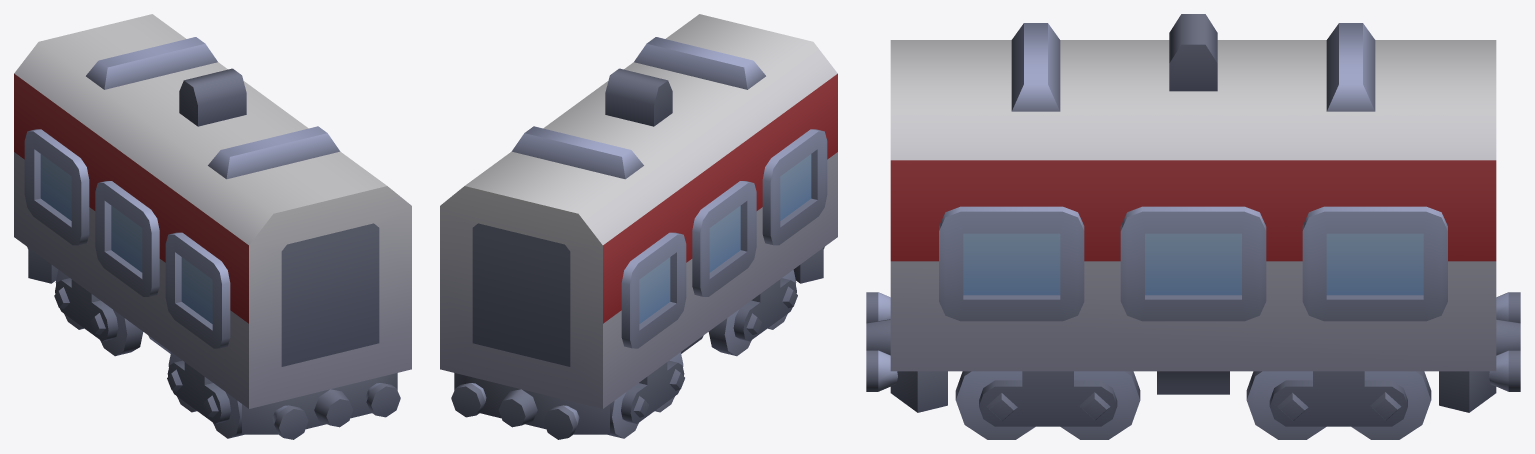
File: train-electric-city-c.glb
The picture shows the model from 3 angles, left to right: view 1: azimuth 30°, elevation 25°; view 2: azimuth 150°, elevation 25°; view 3: azimuth 270°, elevation 25°; orthographic projection. The views are drawn at different scales.
Parts seen in each view (by area): view 1: train-electric-city-c, wheels-back, wheels-front; view 2: train-electric-city-c, wheels-front, wheels-back; view 3: train-electric-city-c, wheels-back, wheels-front.
Part boxes in pixels (x1=…): train-electric-city-c: x1=14, y1=14, x2=411, y2=439; wheels-back: x1=54, y1=270, x2=143, y2=356; wheels-front: x1=167, y1=352, x2=243, y2=438; train-electric-city-c: x1=440, y1=14, x2=837, y2=439; wheels-front: x1=708, y1=270, x2=797, y2=356; wheels-back: x1=608, y1=352, x2=684, y2=438; train-electric-city-c: x1=866, y1=14, x2=1520, y2=412; wheels-back: x1=1246, y1=371, x2=1431, y2=439; wheels-front: x1=955, y1=371, x2=1140, y2=439.
Bounding box in the file's own units: 1.1 × 1.68 × 2.7.
